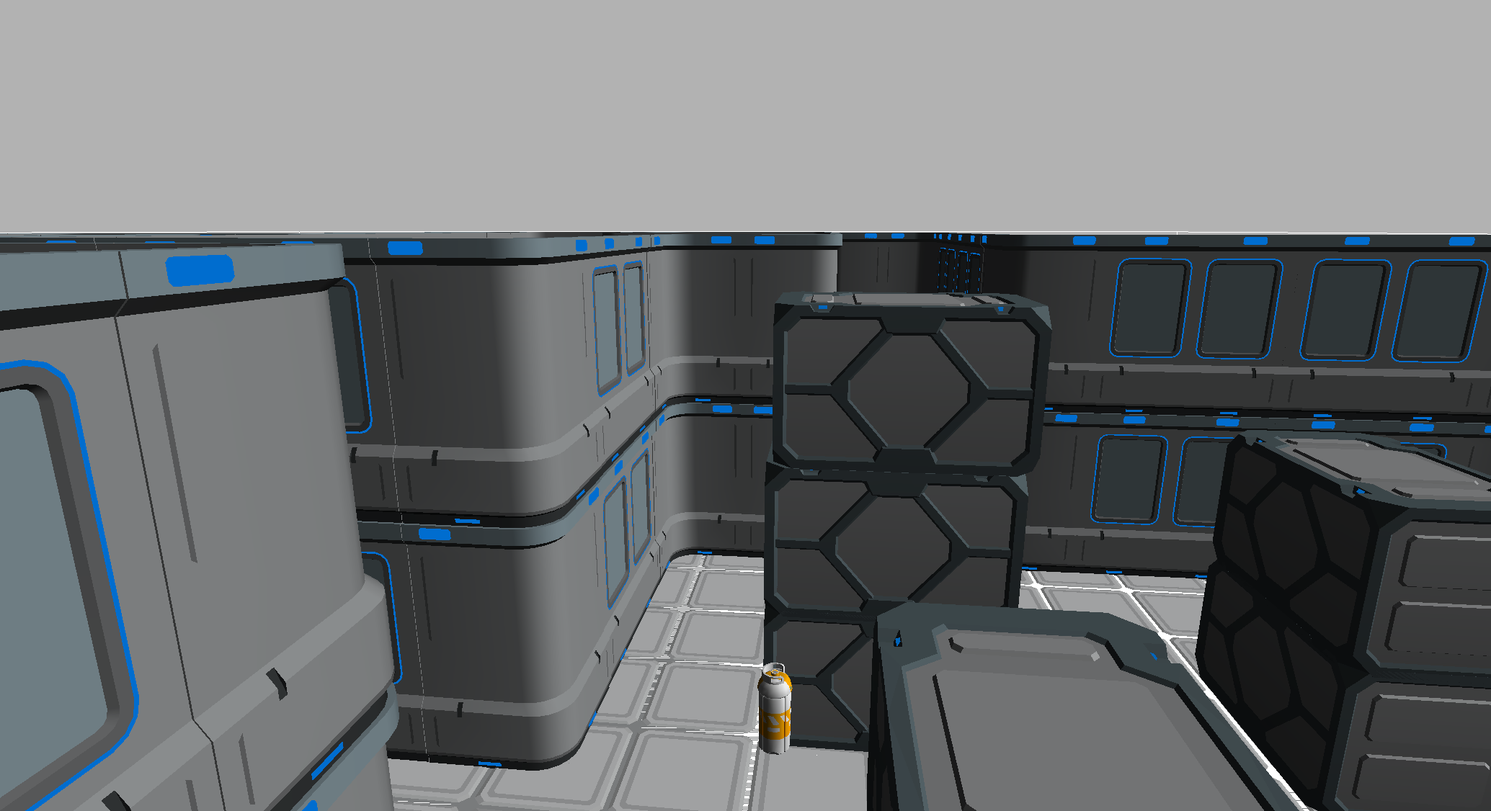yellow_barrel: (758, 663, 791, 753)
